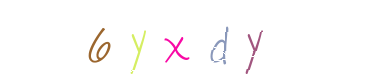6: (97, 0, 177, 80)
D: (142, 0, 222, 80)
X: (136, 0, 216, 80)
Y: (113, 0, 193, 80), (157, 0, 237, 80)
